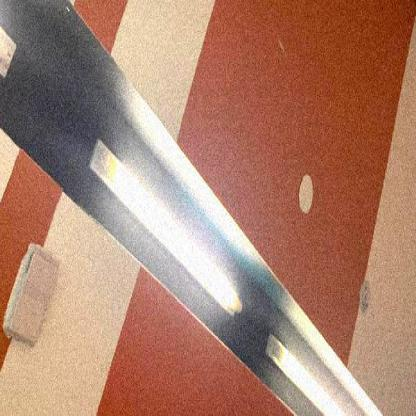light_on: (78, 125, 248, 320), (263, 321, 346, 415)
